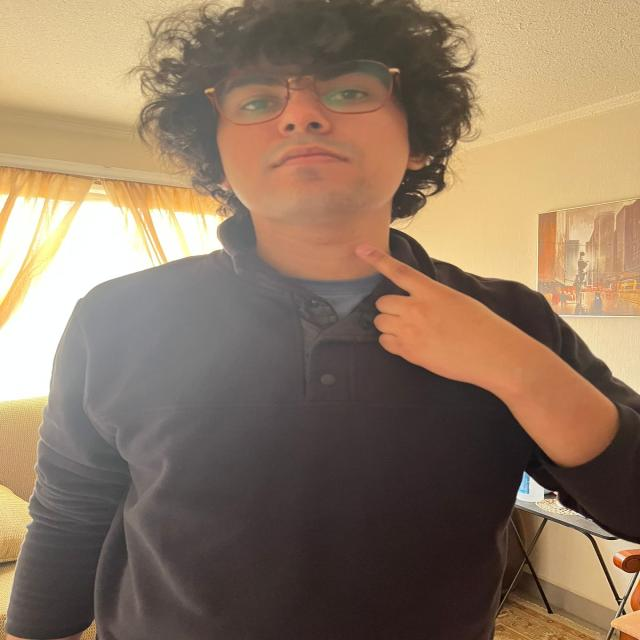Q: (332, 219, 552, 403)
